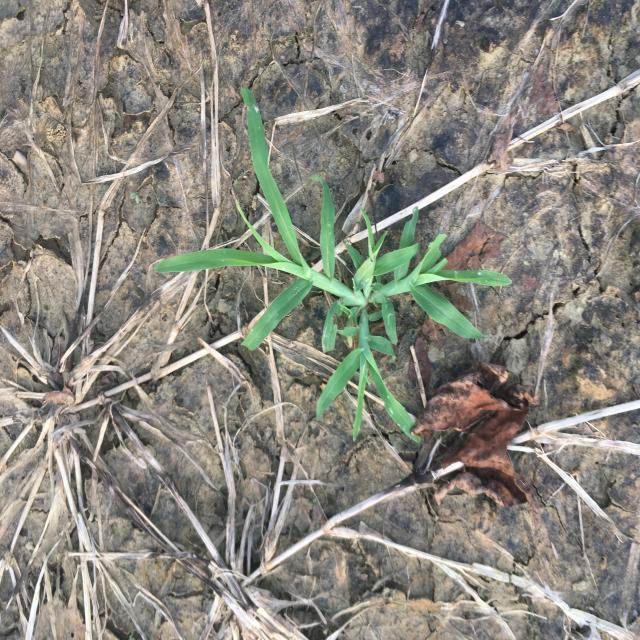Goosegrass: (153, 85, 514, 447)
